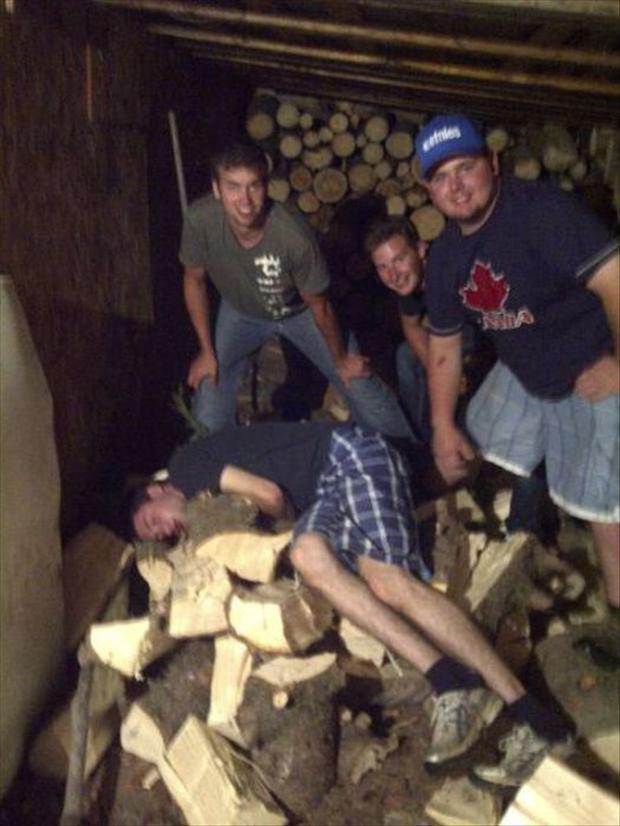Drunk: (429, 160, 497, 215), (217, 165, 266, 217), (381, 244, 417, 288), (134, 509, 185, 540)
